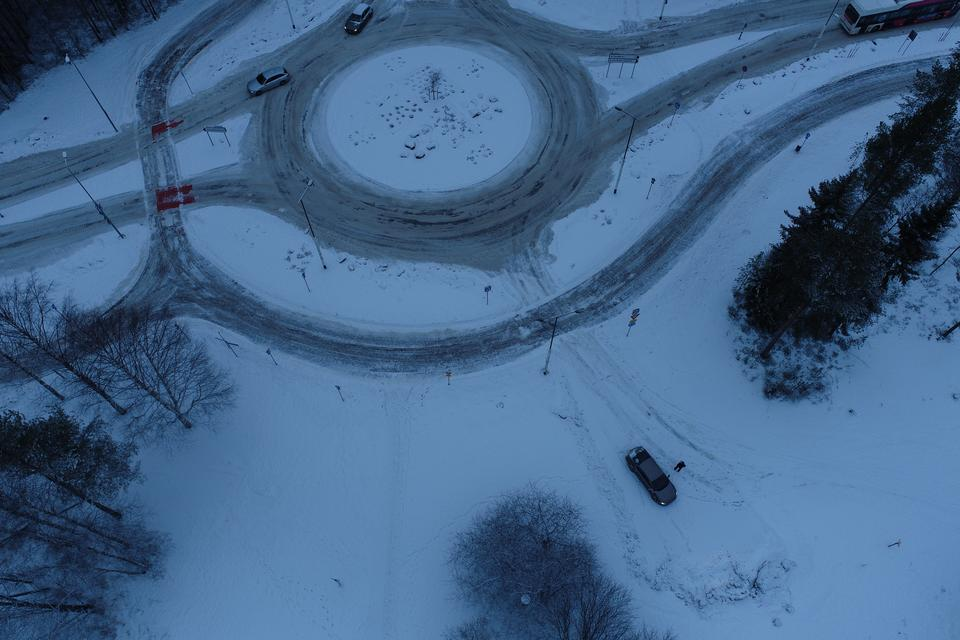intersection: (112, 90, 203, 232)
roundabout: (245, 3, 698, 392)
